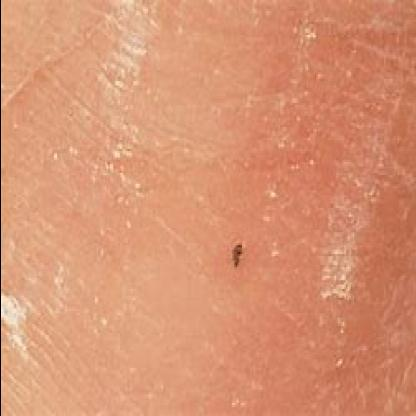Wasp: (166, 138, 290, 355)
